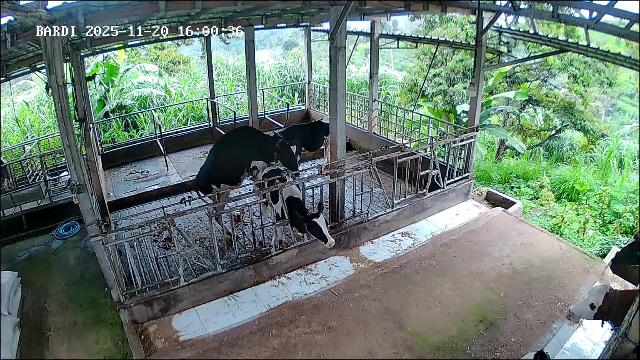mounting: (196, 125, 299, 239)
